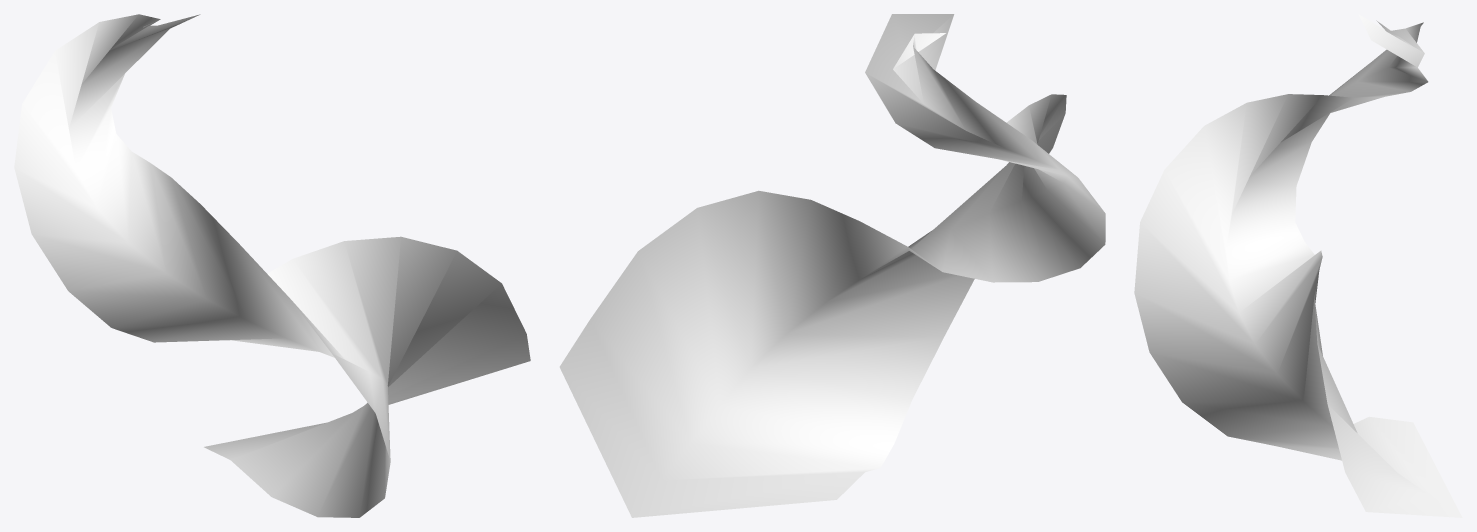
The model's file is s_piaodai2.FBX.
3 views of the same model, side by side, from view 1: azimuth 30°, elevation 25°; view 2: azimuth 150°, elevation 25°; view 3: azimuth 270°, elevation 25° (orthographic). The views are drawn at different scales.
Visible parts, largest first — view 1: s_piaodai2; view 2: s_piaodai2; view 3: s_piaodai2.
Boxes of the visible parts, x1=… form: s_piaodai2: x1=14, y1=14, x2=530, y2=517; s_piaodai2: x1=559, y1=14, x2=1105, y2=517; s_piaodai2: x1=1134, y1=14, x2=1462, y2=517.
Bounding box in the file's own units: 40.52 × 37.79 × 27.69.
1 material, 1 textured.
